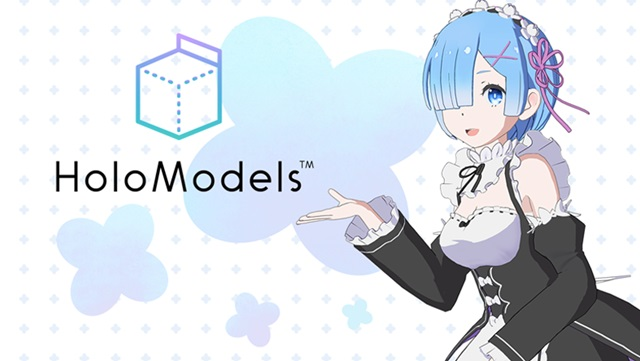rem: (312, 10, 635, 361)
